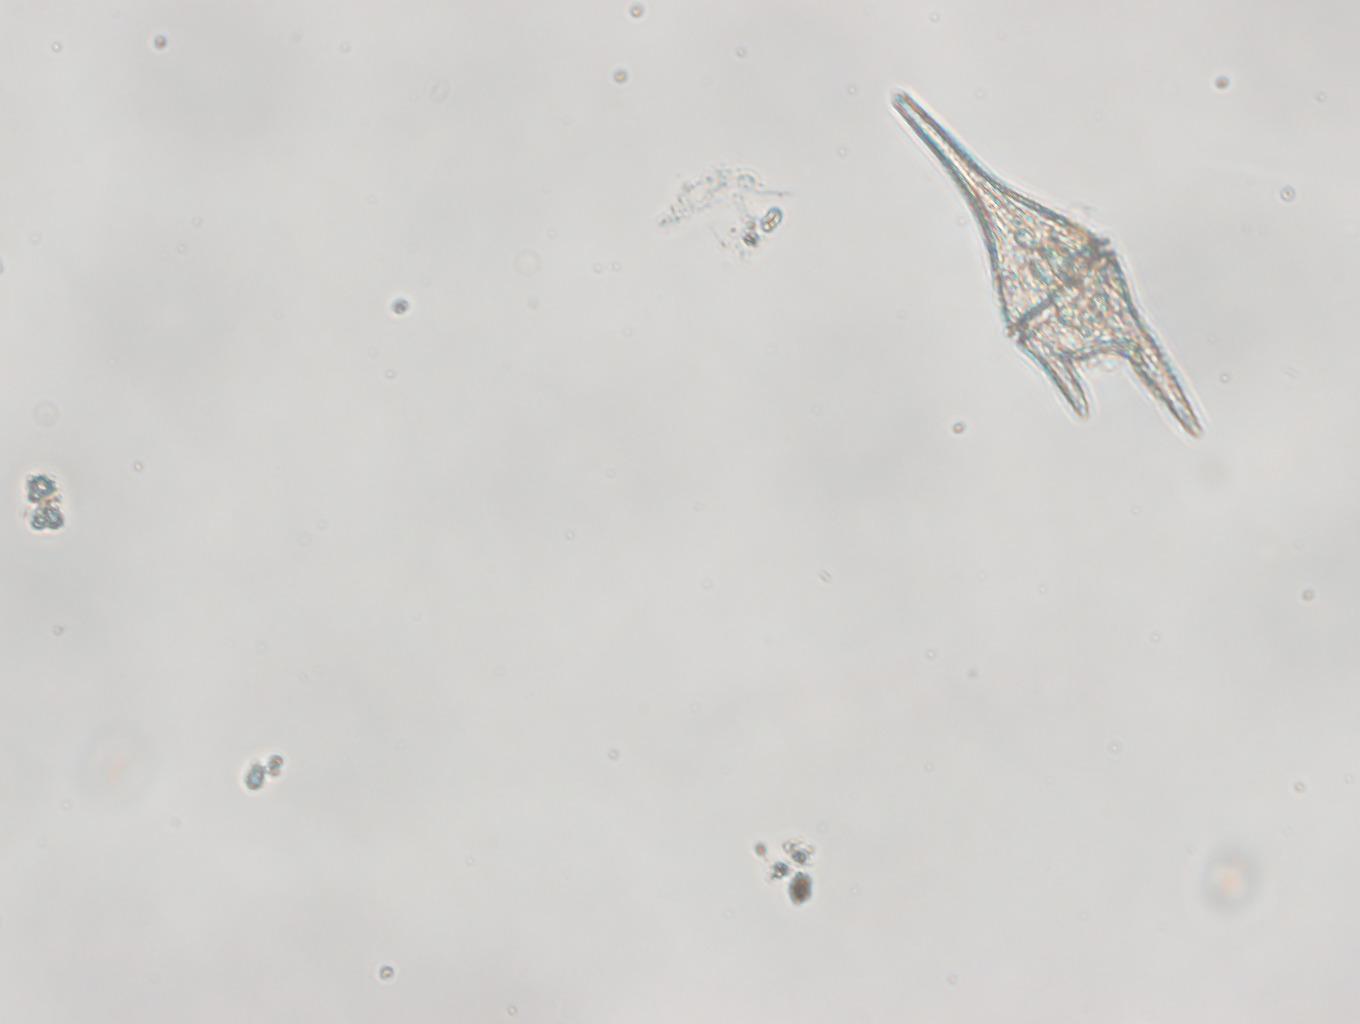ceratium furca: (889, 93, 1206, 446)
